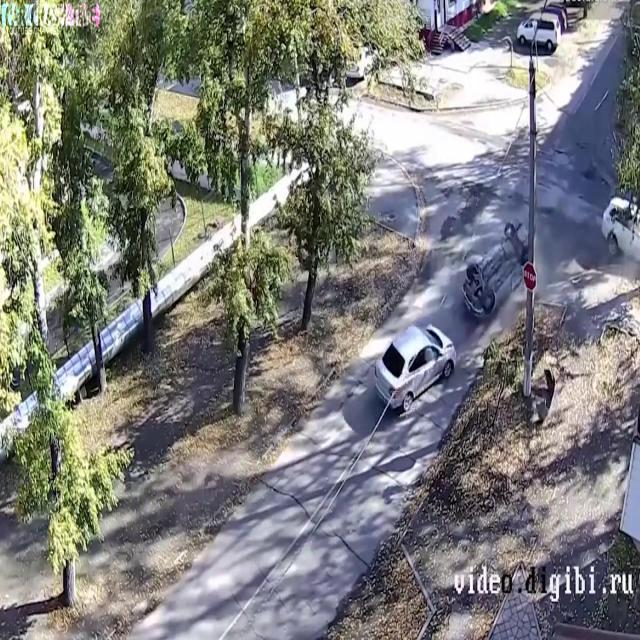accident: (369, 213, 537, 423)
